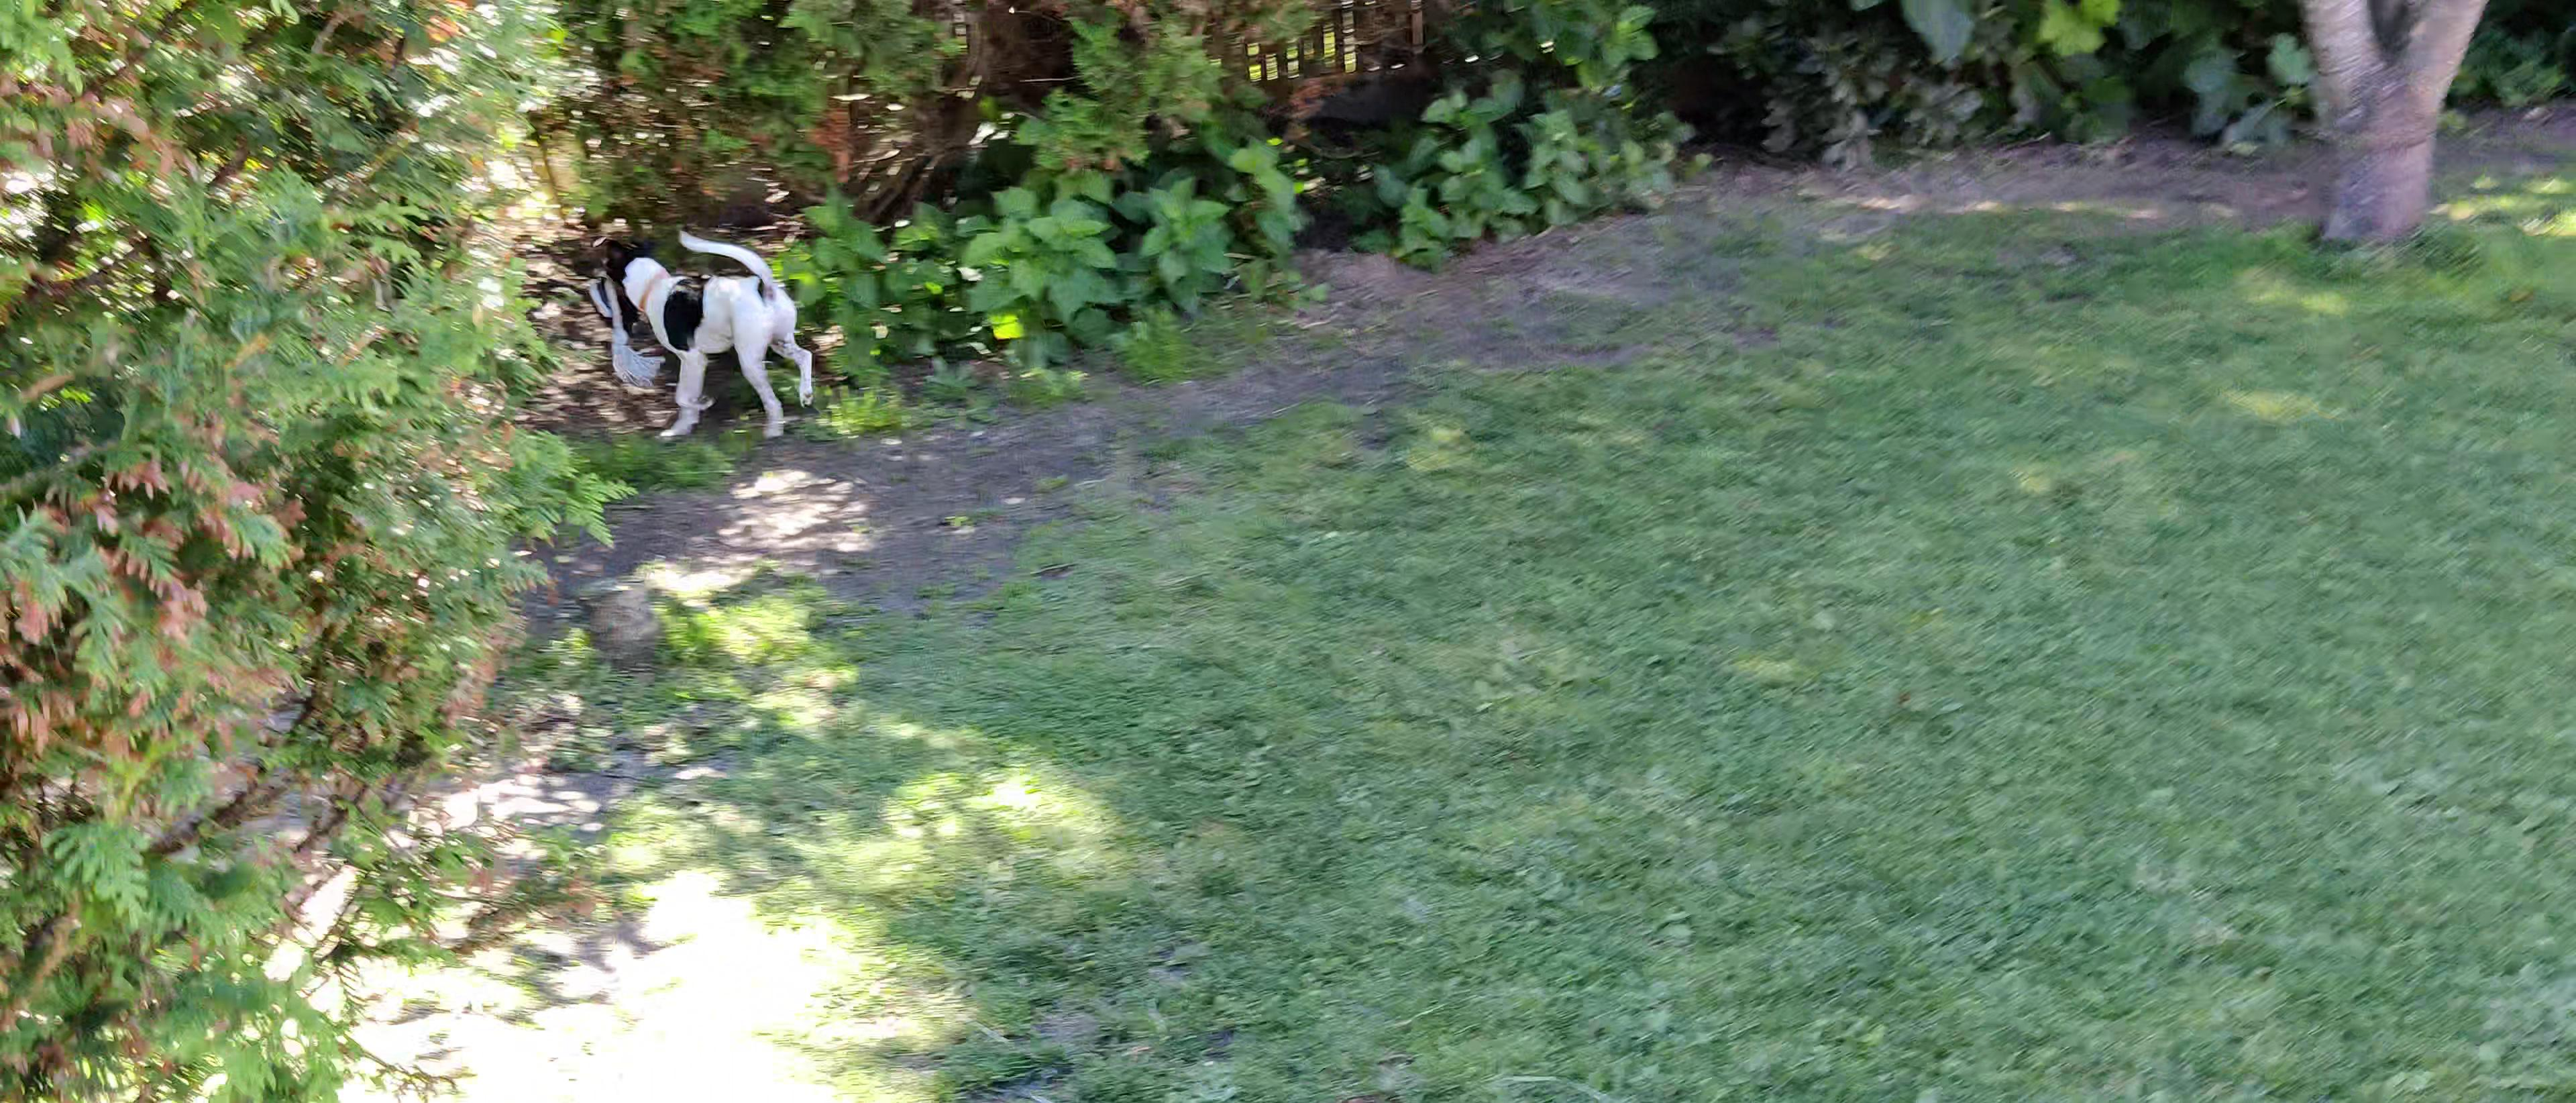Dog: (563, 210, 831, 454)
